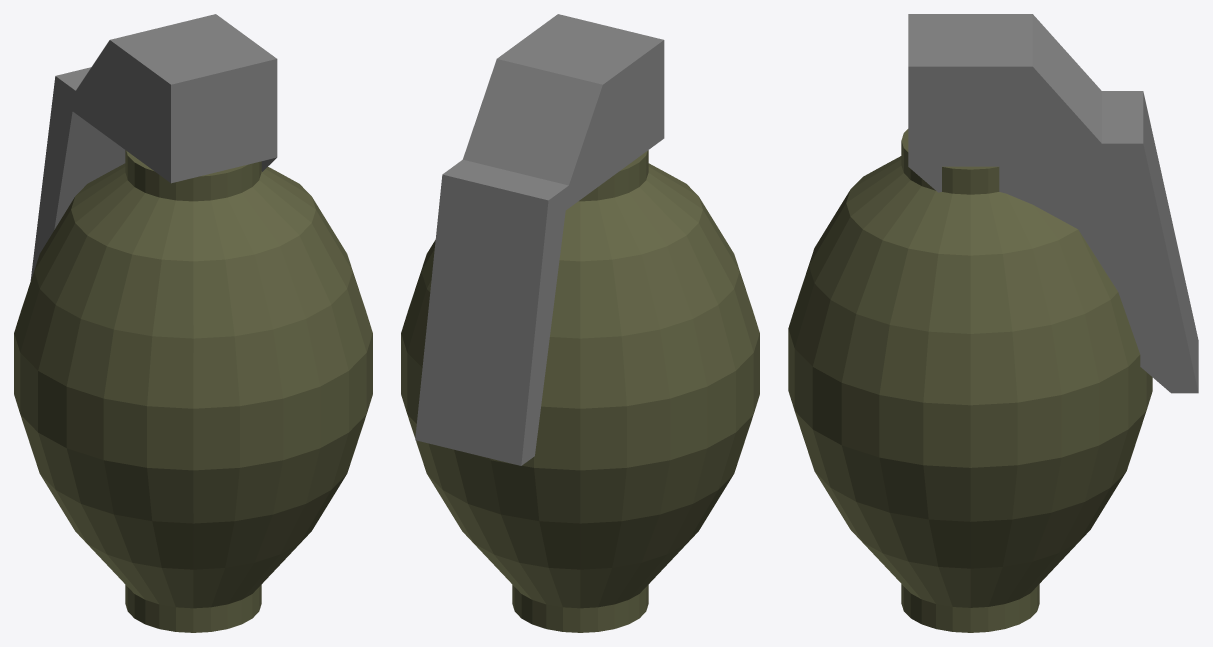
The model's file is grenade.glb.
The picture shows the model from 3 angles, left to right: view 1: azimuth 30°, elevation 25°; view 2: azimuth 150°, elevation 25°; view 3: azimuth 270°, elevation 25°; orthographic projection.
Parts seen in each view (by area): view 1: Mesh1 Group2 Group1 Model, Mesh2 Group3 Group1 Model; view 2: Mesh1 Group2 Group1 Model, Mesh2 Group3 Group1 Model; view 3: Mesh1 Group2 Group1 Model, Mesh2 Group3 Group1 Model.
Part boxes in pixels (box(x1,y1,x2,y2)): Mesh1 Group2 Group1 Model: box(14, 150, 372, 632); Mesh2 Group3 Group1 Model: box(30, 14, 277, 280); Mesh1 Group2 Group1 Model: box(401, 150, 759, 632); Mesh2 Group3 Group1 Model: box(415, 14, 664, 465); Mesh1 Group2 Group1 Model: box(788, 129, 1152, 632); Mesh2 Group3 Group1 Model: box(908, 14, 1198, 393).
Size of the model in its own units: 0.0158 by 0.027 by 0.0178.
